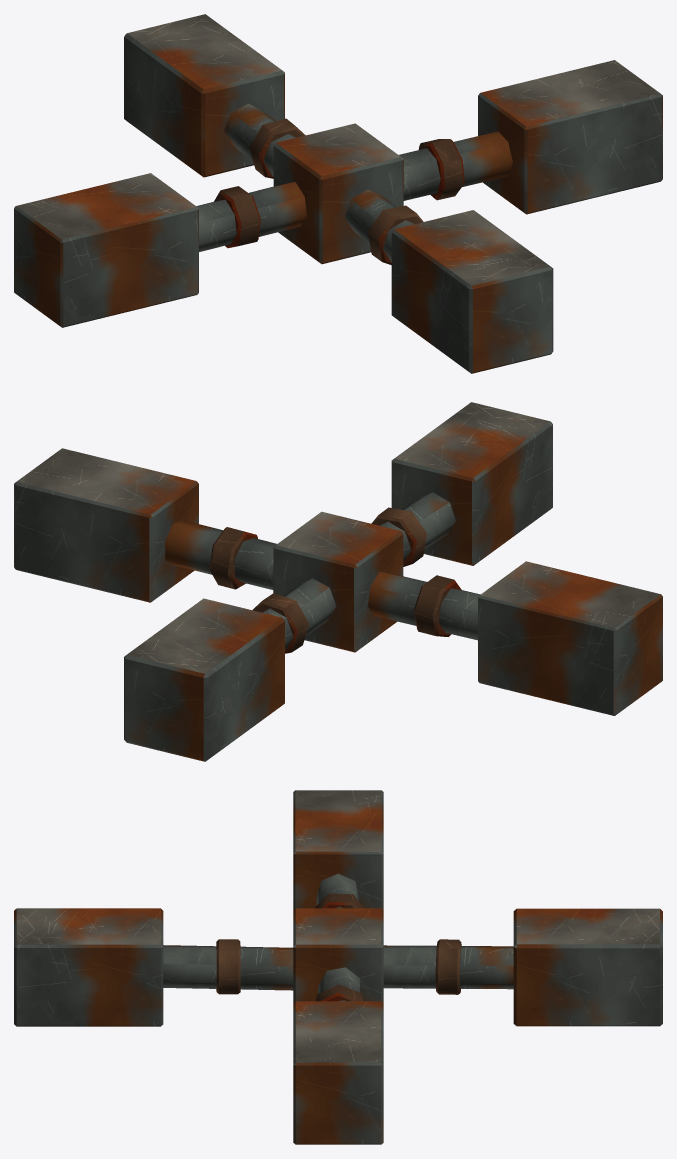
File: R4C_ROD_PLUS_LOD1.glb
3 views of the same model, one above another, from view 1: azimuth 30°, elevation 25°; view 2: azimuth 150°, elevation 25°; view 3: azimuth 270°, elevation 25° (orthographic). The views are drawn at different scales.
Visible parts, largest first — view 1: R4C_ROD_PLUS_LOD1; view 2: R4C_ROD_PLUS_LOD1; view 3: R4C_ROD_PLUS_LOD1.
Part boxes in pixels (x1,y1,x2,y2): R4C_ROD_PLUS_LOD1: (14, 14, 662, 373); R4C_ROD_PLUS_LOD1: (14, 402, 662, 761); R4C_ROD_PLUS_LOD1: (14, 790, 662, 1144).
Size of the model in its own units: 1.62 by 0.226 by 1.62.
3 materials, 3 textured.
